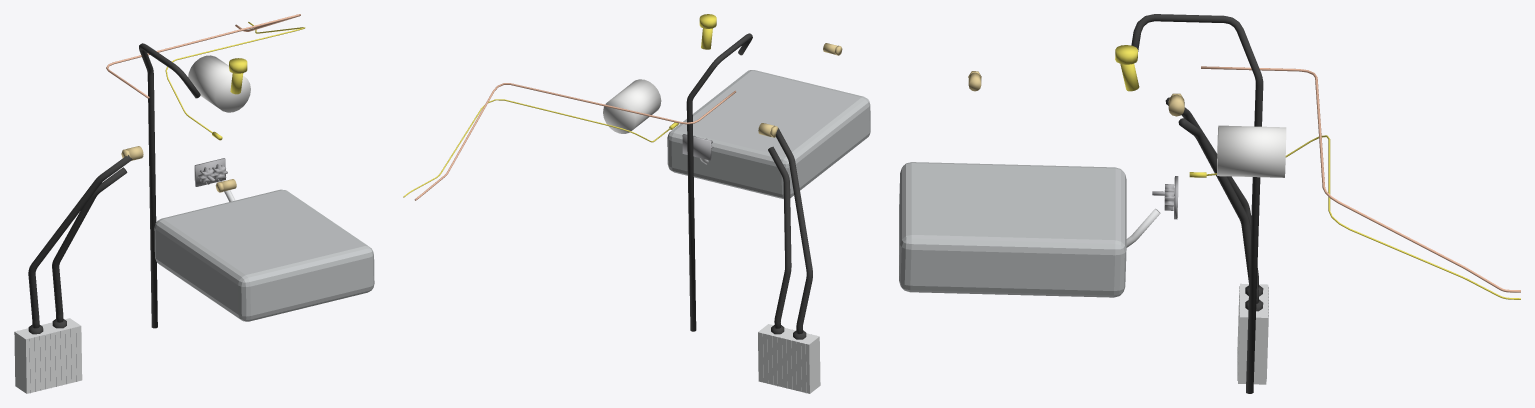
File: OIL.glb
The picture shows the model from 3 angles, left to right: view 1: azimuth 30°, elevation 25°; view 2: azimuth 150°, elevation 25°; view 3: azimuth 270°, elevation 25°; orthographic projection. The views are drawn at different scales.
Visible parts, largest first — view 1: OIL.sump, OIL.oil_cooler, OIL.breather_line, OIL.oil_filter, OIL.hose_to_cooler, OIL.hose_from_cooler, OIL.pressure_gauge_line, OIL.pump, OIL.temperature_sensor, OIL.dipstick_filler; view 2: OIL.sump, OIL.oil_cooler, OIL.breather_line, OIL.oil_filter, OIL.hose_to_cooler, OIL.hose_from_cooler, OIL.pressure_gauge_line, OIL.temperature_sensor, OIL.pump, OIL.dipstick_filler; view 3: OIL.sump, OIL.breather_line, OIL.oil_filter, OIL.oil_cooler, OIL.hose_from_cooler, OIL.pressure_gauge_line, OIL.temperature_sensor, OIL.dipstick_filler, OIL.hose_to_cooler.
Boxes of the visible parts, left/top/right/bottom form: OIL.sump: left=154, top=189, right=374, bottom=321; OIL.oil_cooler: left=14, top=318, right=82, bottom=393; OIL.breather_line: left=139, top=43, right=200, bottom=328; OIL.oil_filter: left=188, top=55, right=250, bottom=112; OIL.hose_to_cooler: left=28, top=155, right=132, bottom=334; OIL.hose_from_cooler: left=52, top=167, right=127, bottom=328; OIL.pressure_gauge_line: left=106, top=14, right=300, bottom=98; OIL.pump: left=194, top=158, right=227, bottom=186; OIL.temperature_sensor: left=165, top=22, right=305, bottom=140; OIL.dipstick_filler: left=229, top=58, right=247, bottom=94; OIL.sump: left=667, top=70, right=870, bottom=199; OIL.oil_cooler: left=758, top=324, right=820, bottom=393; OIL.breather_line: left=686, top=33, right=752, bottom=331; OIL.oil_filter: left=603, top=79, right=661, bottom=133; OIL.hose_to_cooler: left=776, top=128, right=812, bottom=339; OIL.hose_from_cooler: left=768, top=146, right=791, bottom=334; OIL.pressure_gauge_line: left=414, top=83, right=735, bottom=200; OIL.temperature_sensor: left=403, top=99, right=678, bottom=197; OIL.pump: left=682, top=134, right=713, bottom=160; OIL.dipstick_filler: left=699, top=14, right=716, bottom=49; OIL.sump: left=899, top=162, right=1126, bottom=297; OIL.breather_line: left=1131, top=14, right=1263, bottom=393; OIL.oil_filter: left=1217, top=125, right=1286, bottom=177; OIL.oil_cooler: left=1237, top=283, right=1268, bottom=384; OIL.hose_from_cooler: left=1178, top=118, right=1263, bottom=311; OIL.pressure_gauge_line: left=1201, top=66, right=1520, bottom=292; OIL.temperature_sensor: left=1189, top=135, right=1520, bottom=299; OIL.dipstick_filler: left=1115, top=45, right=1139, bottom=91; OIL.hose_to_cooler: left=1165, top=97, right=1263, bottom=296.
Bounding box in the file's own units: 0.85 × 0.79 × 1.1.
